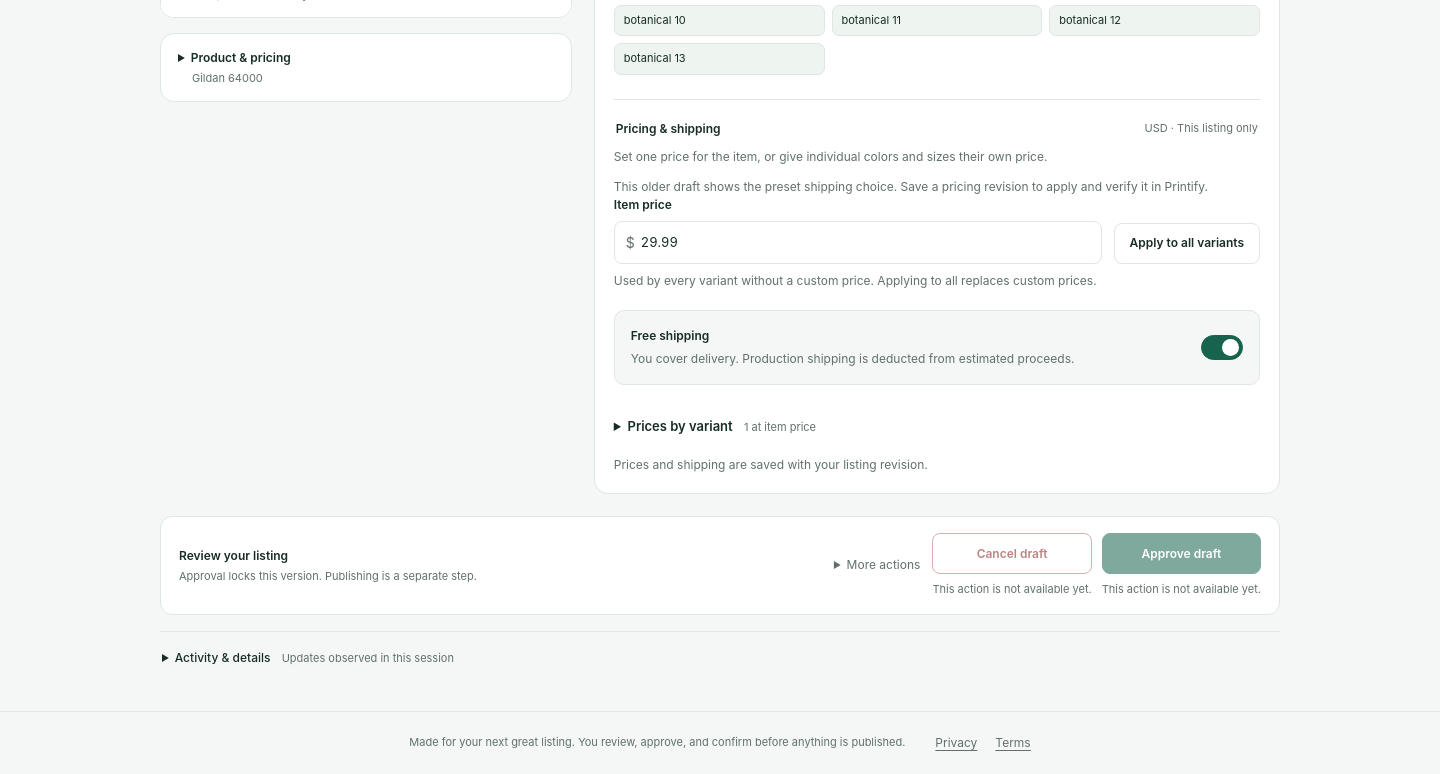
Test: authoritative seller review › keeps the seller boundary visible and preparation evidence accessible with 13 labeled tags
(page scrolled)
Click the heading "Activity & details Updates observed in this session". click: (314, 657)
box: [175,650,454,665]
(page scrolled)
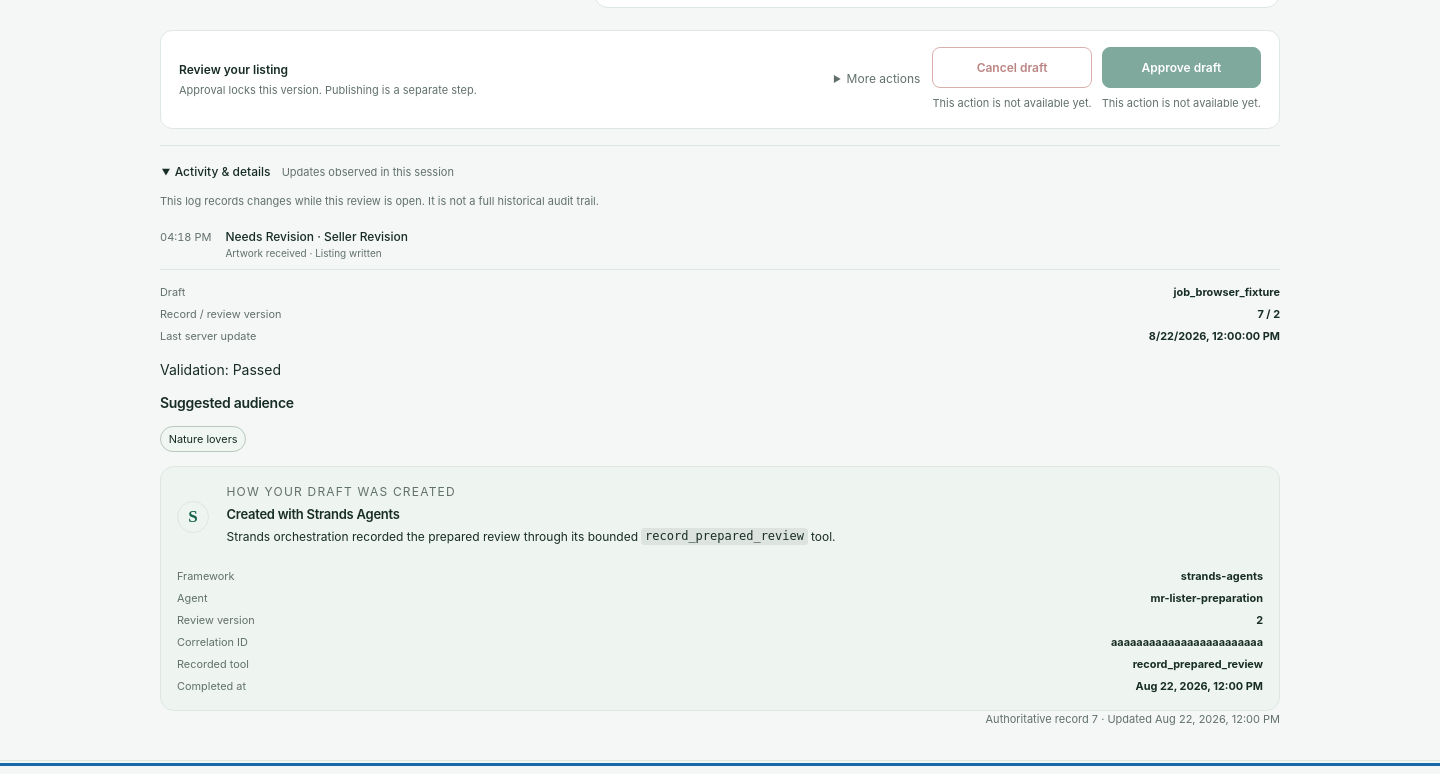
Expected: the heading "Created with Strands Agents" is shown, [226,506,400,522]
Expected: the text "record_prepared_review" next to "tool." is shown, [645,530,804,544]
Expected: the text "aaaaaaaaaaaaaaaaaaaaaaaa" is shown, [1111,634,1263,650]
